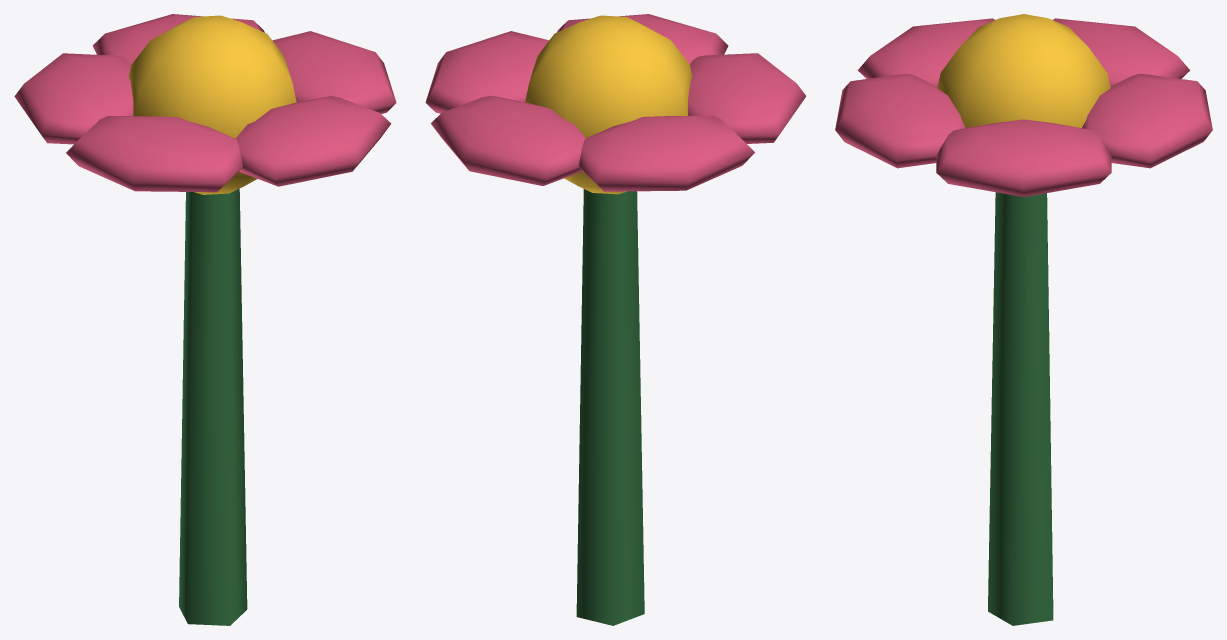
File: flower_redA.glb
The picture shows the model from 3 angles, left to right: view 1: azimuth 30°, elevation 25°; view 2: azimuth 150°, elevation 25°; view 3: azimuth 270°, elevation 25°; orthographic projection.
Parts seen in each view (by area): view 1: Flower_LotusPink; view 2: Flower_LotusPink; view 3: Flower_LotusPink.
Part boxes in pixels (x1=…): Flower_LotusPink: x1=14, y1=14, x2=396, y2=625; Flower_LotusPink: x1=425, y1=14, x2=806, y2=625; Flower_LotusPink: x1=835, y1=14, x2=1212, y2=625.
Size of the model in its own units: 0.4226 by 0.72 by 0.4185.
